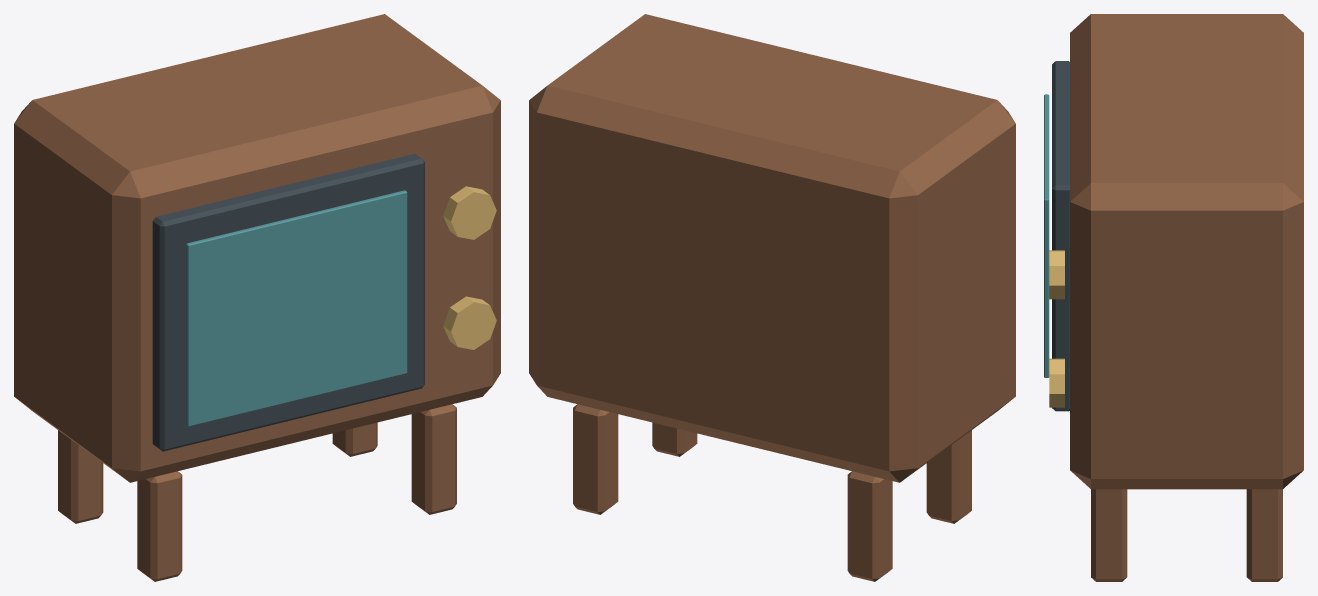
File: SM_CH_Paper_Television.fbx
The picture shows the model from 3 angles, left to right: view 1: azimuth 30°, elevation 25°; view 2: azimuth 150°, elevation 25°; view 3: azimuth 270°, elevation 25°; orthographic projection.
Visible parts, largest first — view 1: SM_CH_Paper_Television; view 2: SM_CH_Paper_Television; view 3: SM_CH_Paper_Television.
Boxes of the visible parts, x1=… form: SM_CH_Paper_Television: x1=14, y1=14, x2=500, y2=581; SM_CH_Paper_Television: x1=529, y1=14, x2=1015, y2=581; SM_CH_Paper_Television: x1=1044, y1=14, x2=1303, y2=581.
Bounding box in the file's own units: 8500 × 5000 × 8750.
